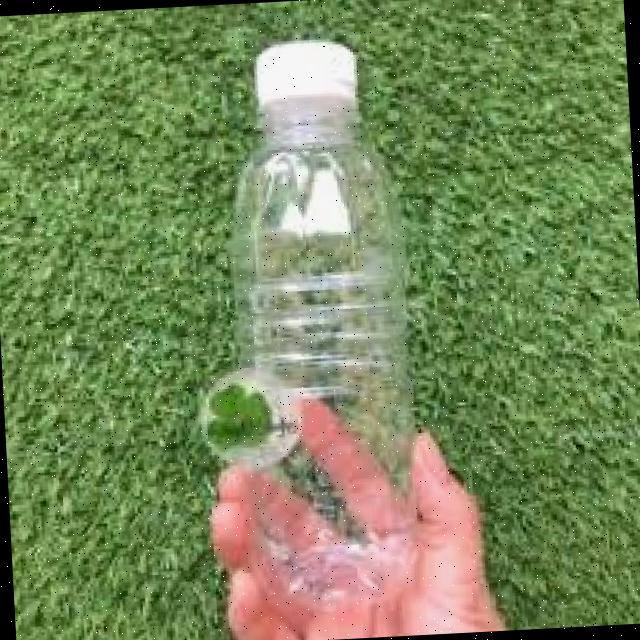bottle: (175, 2, 457, 634)
cap: (250, 34, 370, 106)
